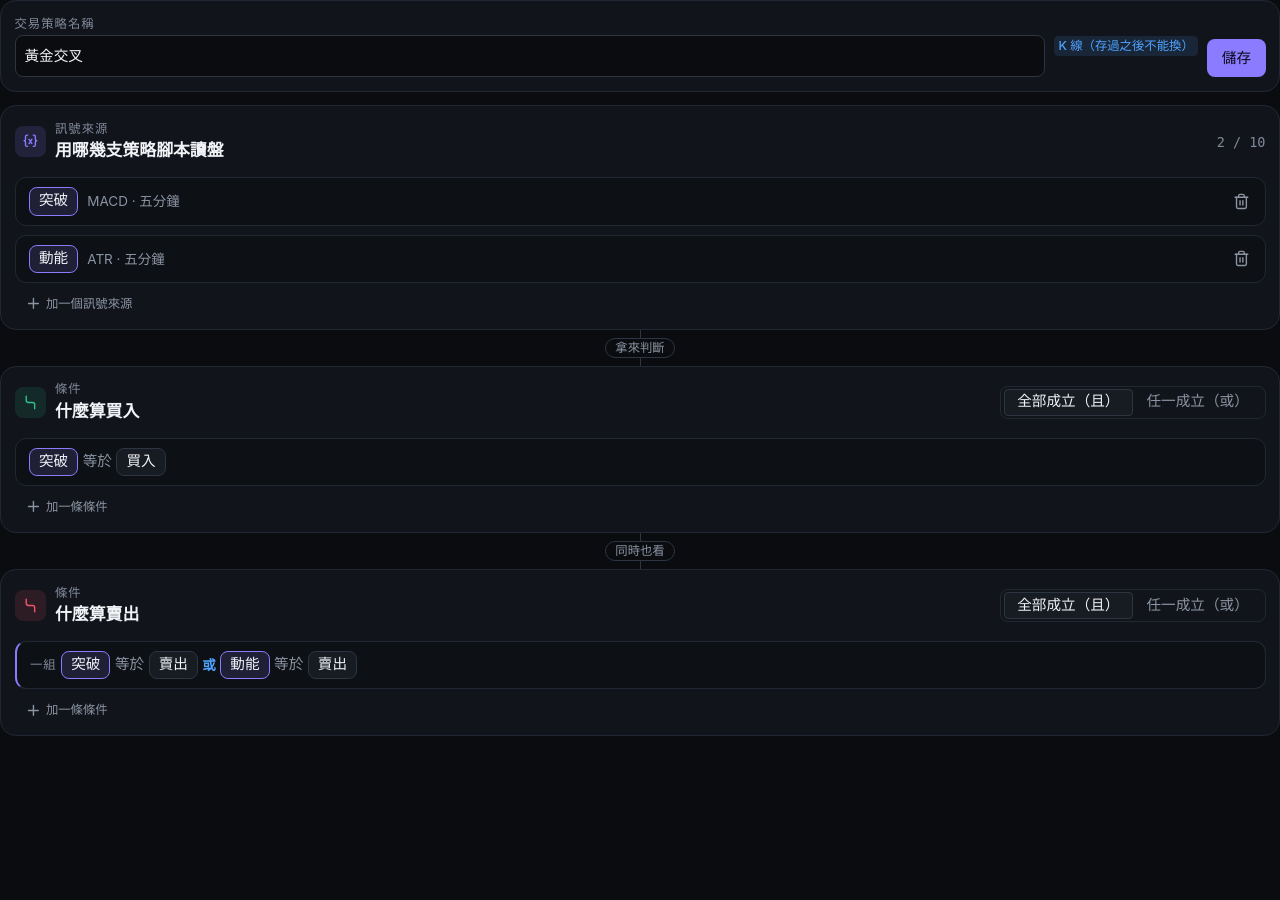
Test: TradingStrategyWorkbench：手機上可以編 › 手機直立打開時，在「什麼算賣出」那張卡上刪掉一條，那一條消失並提示有還沒存的改動
The image size is (1280, 900).
Click the button "一組 突破 等於 賣出 或 動能 等於 賣出" at (86, 665), box [14,641,1266,689]
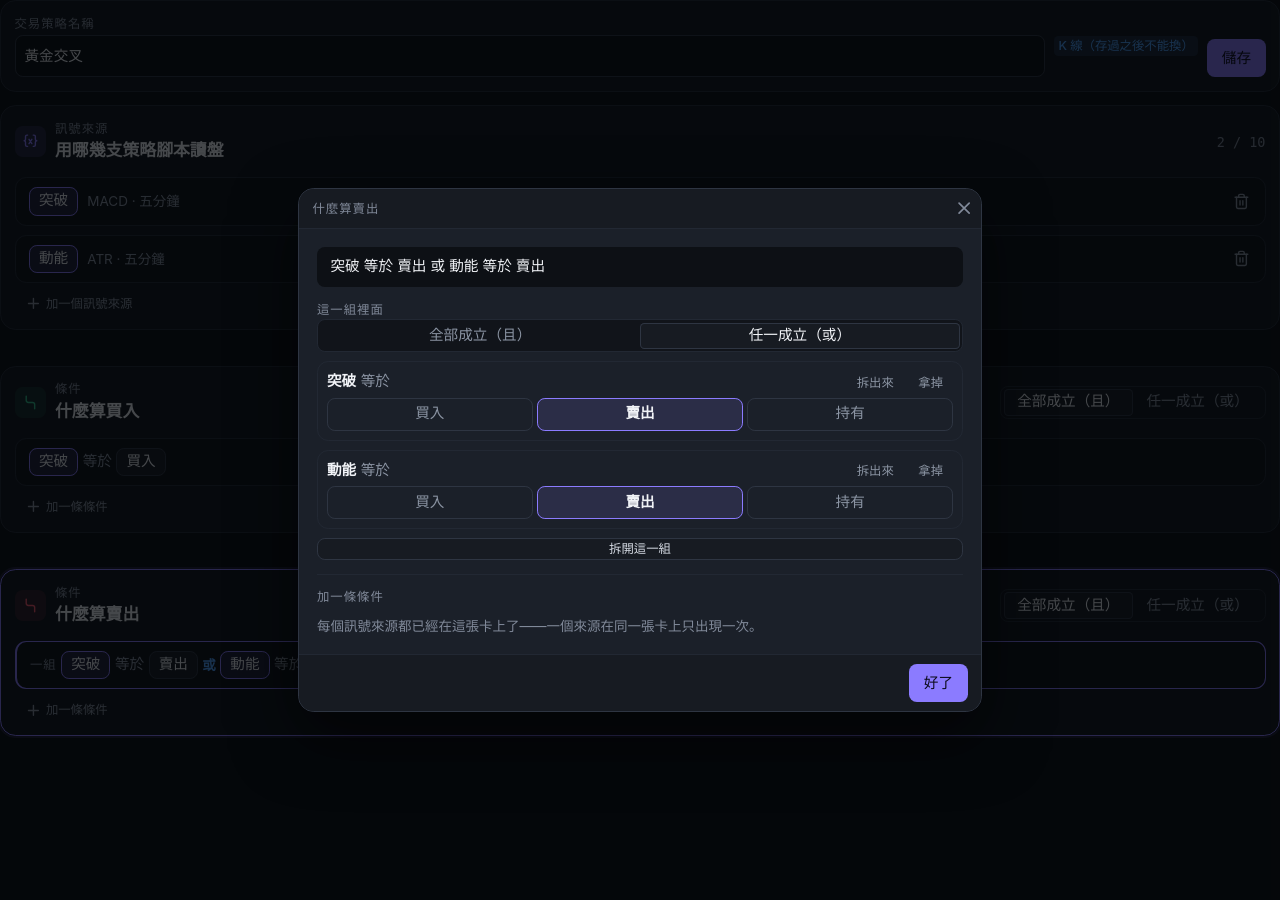
Click the button with test id "take-off-sell-動能" at (931, 471), box [908,460,953,482]
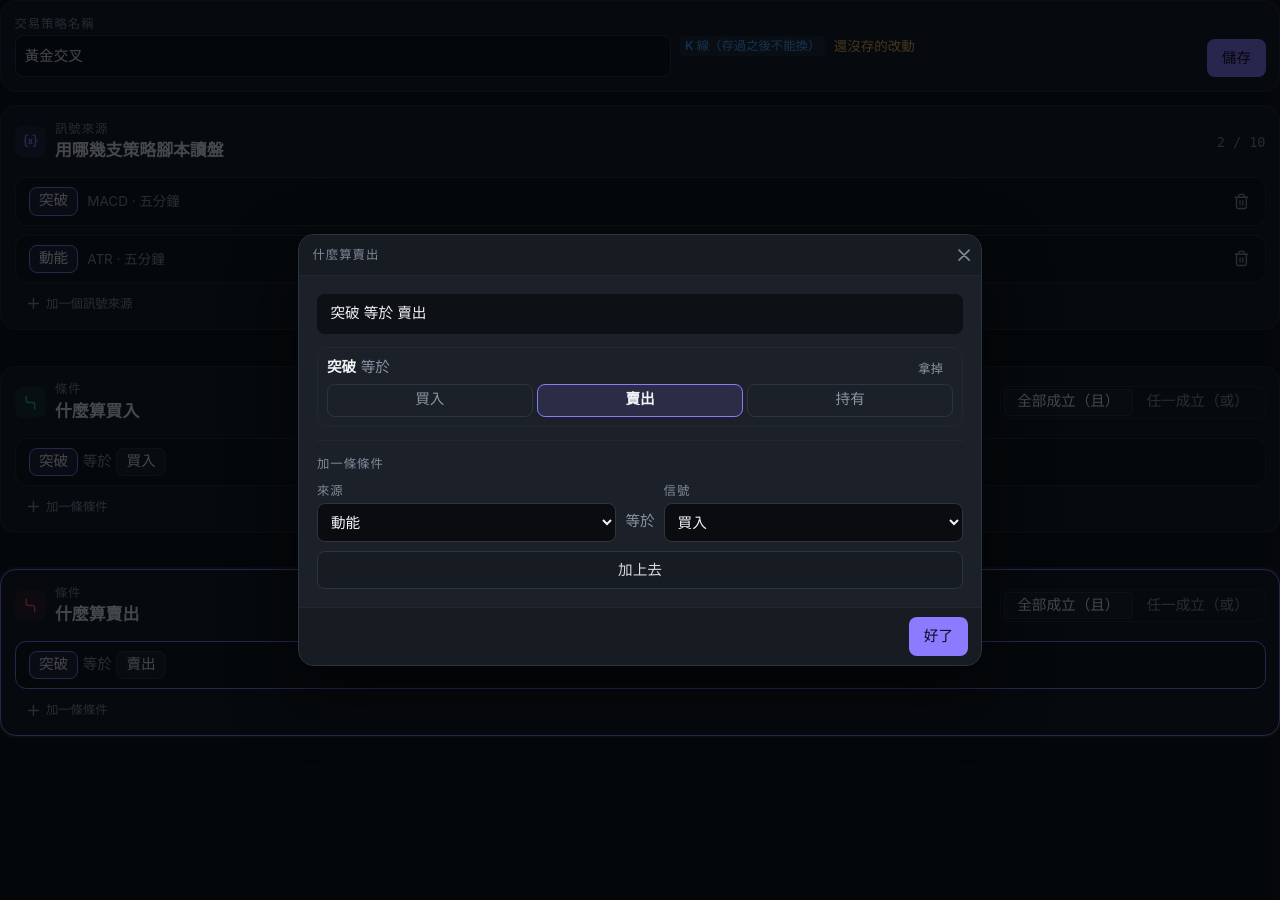
Expected: the text with test id "trading-strategy-unsaved" reads "還沒存的改動", [834,38,915,54]
